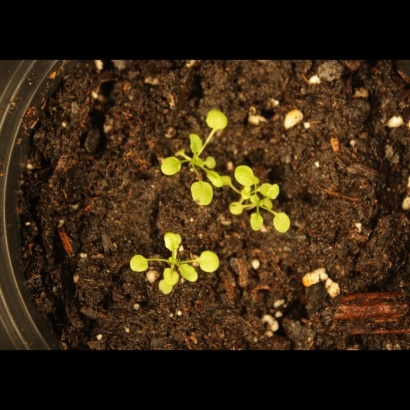leaf: (120, 249, 156, 280), (190, 176, 218, 214), (196, 248, 228, 280), (174, 261, 205, 287), (158, 225, 186, 252), (231, 164, 259, 190), (271, 211, 295, 241), (205, 107, 231, 132), (159, 154, 184, 177), (205, 168, 228, 193), (183, 133, 206, 156), (216, 171, 239, 194), (204, 148, 227, 171), (164, 264, 187, 287), (155, 280, 178, 303), (244, 213, 267, 236), (222, 197, 245, 220), (256, 176, 279, 199), (267, 181, 290, 204), (262, 195, 285, 218), (243, 189, 266, 212)
